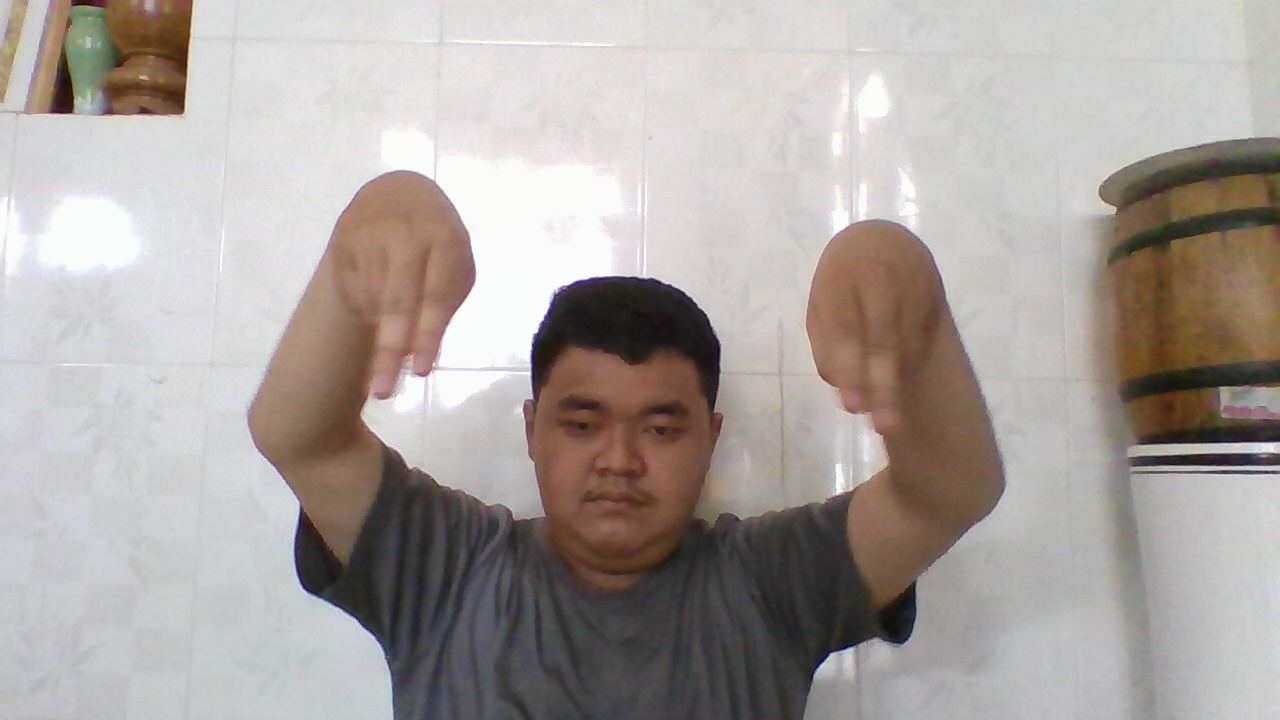N: (323, 170, 478, 408), (798, 215, 951, 436)
